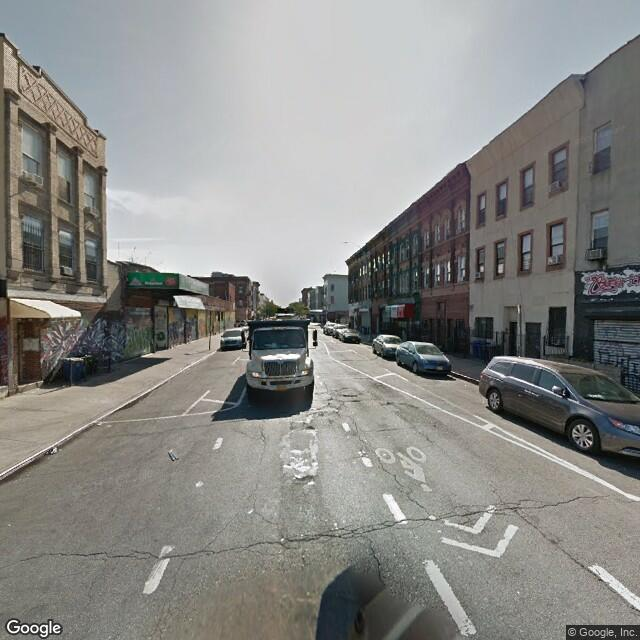litter: (167, 448, 181, 462), (47, 447, 61, 455), (93, 419, 109, 425)
